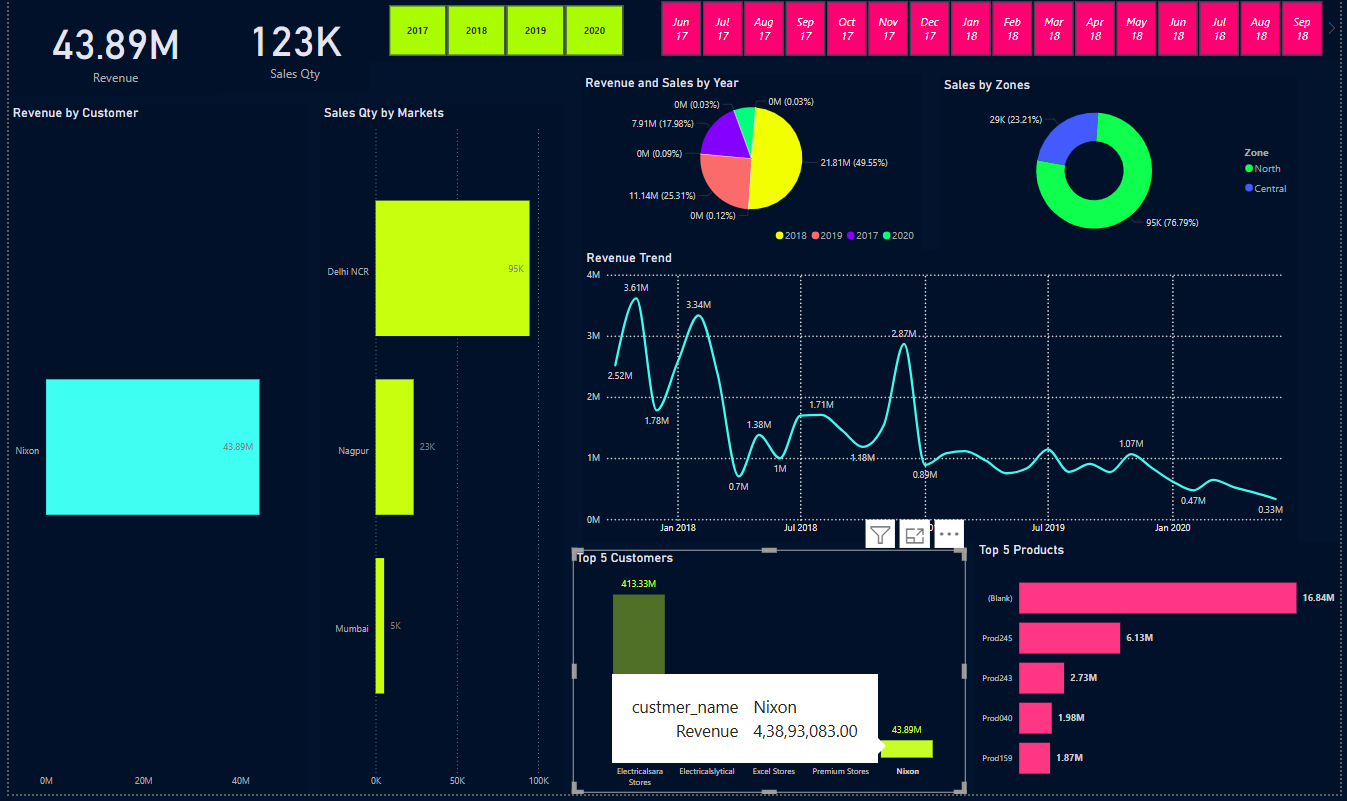

The dashboard page shown, as its layout file describes it:
{"tool":"powerbi","page":{"name":"Dashboard","canvas":[1750,1050],"ordinal":0},"visuals":[{"type":"card","fields":{"Values":["BaseMeasures.Revenue"]},"box":[1.6,4.8,277.5,125.8],"z":0},{"type":"card","fields":{"Values":["BaseMeasures.Sales Qty"]},"box":[279.1,0,193.6,127.5],"z":1000},{"type":"barChart","title":"Revenue by Customer","fields":{"Category":["sales customers.custmer_name"],"Y":["BaseMeasures.Revenue"]},"box":[0,143,392.8,907.3],"z":2000},{"type":"barChart","title":"Sales Qty by Markets","fields":{"Category":["sales markets.markets_name"],"Y":["BaseMeasures.Sales Qty"]},"box":[409.3,143,320.5,907.3],"z":3000},{"type":"donutChart","title":"Sales by Zones","fields":{"Y":["BaseMeasures.Sales Qty"],"Category":["sales markets.zone"]},"box":[1224.6,106.8,470.1,226.8],"z":4000},{"type":"slicer","fields":{"Values":["sales date.year"]},"box":[473.4,4.9,358.3,80.5],"z":5000},{"type":"slicer","title":"Months","fields":{"Values":["sales date.cy_date"]},"box":[831.7,0,918.8,85.5],"z":6000},{"type":"columnChart","title":"Top 5 Customers","fields":{"Category":["sales customers.custmer_name"],"Y":["BaseMeasures.Revenue"]},"box":[741.3,728.2,516.1,320.5],"z":7000},{"type":"pieChart","title":"Revenue and Sales by Year","fields":{"Category":["sales date.year"],"Y":["BaseMeasures.Revenue","BaseMeasures.Sales Qty"]},"box":[752.8,103.6,447.1,230.1],"z":8000},{"type":"barChart","title":"Top 5 Products","fields":{"Y":["BaseMeasures.Revenue"],"Category":["sales products.product_code"]},"box":[1270.6,718.3,480,332],"z":9000},{"type":"lineChart","title":"Revenue Trend","fields":{"Category":["sales date.cy_date"],"Y":["BaseMeasures.Revenue"]},"box":[754.5,333.7,940.2,384.6],"z":10000}]}

Visuals, with their boxes in screenshot pixels (x1, y1, x2, y2), scaled from the page's 1750x1050 canvas onto the 1347x801 screenshot:
card - BaseMeasures.Revenue: region(1, 4, 215, 100)
card - BaseMeasures.Sales Qty: region(215, 0, 364, 97)
"Revenue by Customer" barChart: region(0, 109, 302, 800)
"Sales Qty by Markets" barChart: region(315, 109, 562, 800)
"Sales by Zones" donutChart: region(943, 81, 1304, 254)
slicer - sales date.year: region(364, 4, 640, 65)
"Months" slicer: region(640, 0, 1346, 65)
"Top 5 Customers" columnChart: region(571, 556, 968, 800)
"Revenue and Sales by Year" pieChart: region(579, 79, 924, 255)
"Top 5 Products" barChart: region(978, 548, 1346, 800)
"Revenue Trend" lineChart: region(581, 255, 1304, 548)
